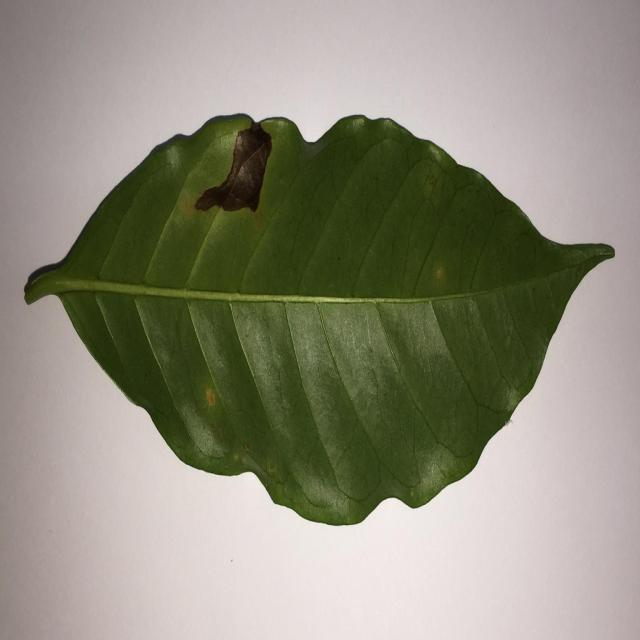Plaga-Minador: (23, 115, 617, 529)
